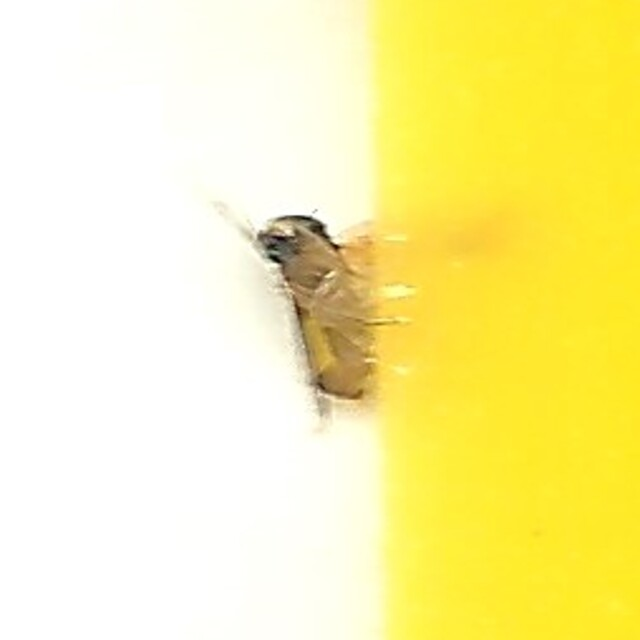Hemiptera: (252, 207, 388, 433)
